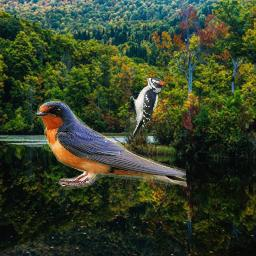Swallow: (32, 98, 187, 192)
Woodpecker: (130, 75, 164, 141)
